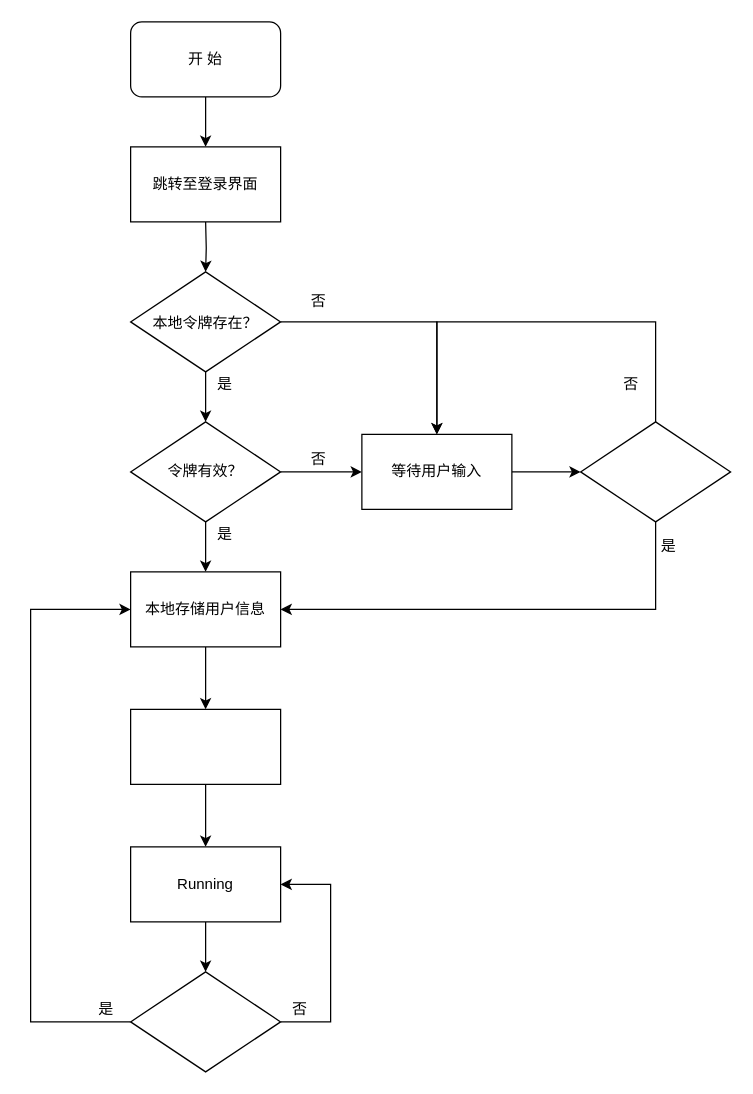
Image size: 753x1094. Some labels were removed from this diagram. Each missing label, with the box of its shape:
权限信息更改？: (129, 971, 281, 1072)
根据权限加载界面: (129, 708, 281, 784)
账号密码有效？: (579, 421, 731, 522)
